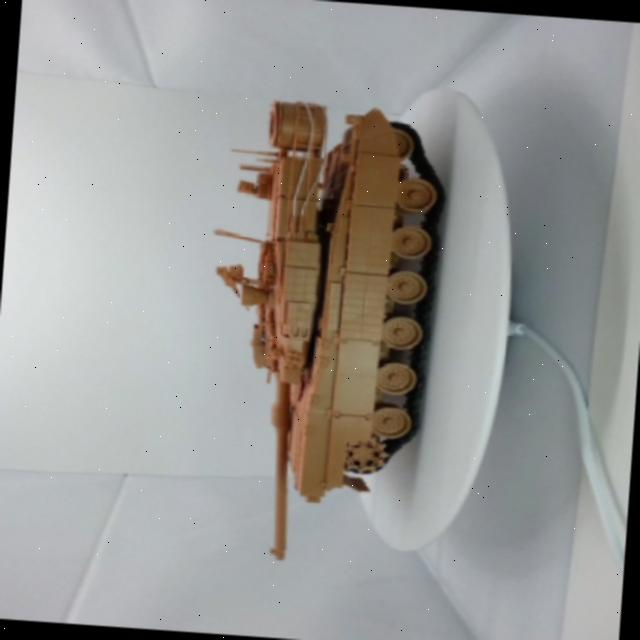korea tank: (174, 88, 468, 578)
